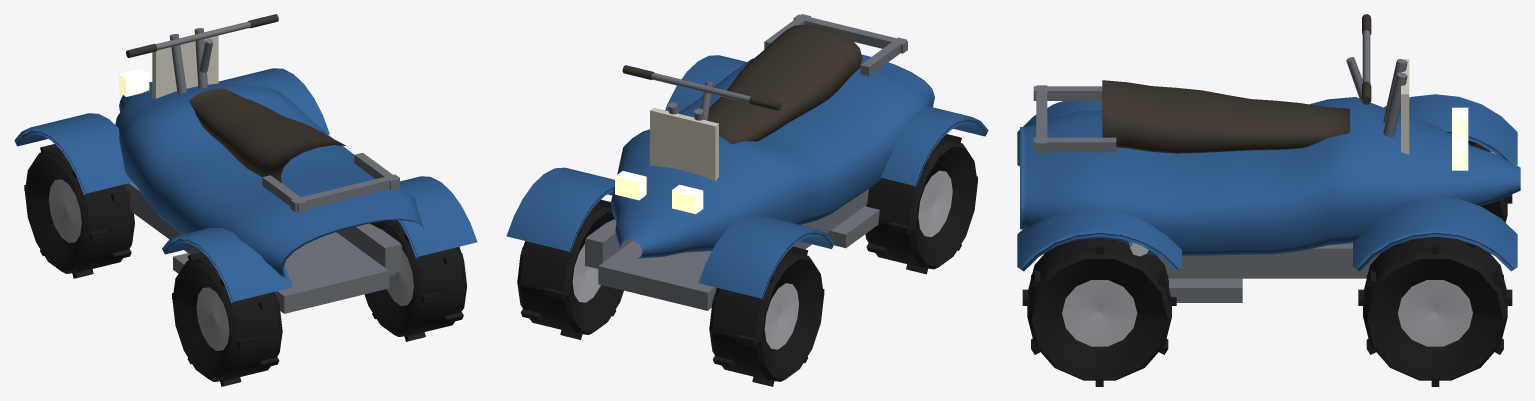
File: vehicle_vehickle.glb
3 renders of one model, left to right at view 1: azimuth 30°, elevation 25°; view 2: azimuth 150°, elevation 25°; view 3: azimuth 270°, elevation 25°, orthographic. The views are drawn at different scales.
Parts seen in each view (by area): view 1: vehicle_vehickle_body, vehicle_vehickle_guards, vehicle_vehickle_chassis, wheel_rl_tyre, wheel_fl_tyre, vehicle_vehickle_saddle, wheel_rr_tyre, vehicle_vehickle_rack, vehicle_vehickle_board, wheel_rl_rim, wheel_fl_rim, steer_bars_tube (+7 smaller); view 2: vehicle_vehickle_body, vehicle_vehickle_guards, vehicle_vehickle_saddle, vehicle_vehickle_chassis, wheel_fl_tyre, wheel_rl_tyre, wheel_fr_tyre, vehicle_vehickle_board, vehicle_vehickle_rack, wheel_rl_rim, wheel_fl_rim, vehicle_vehickle_lamps (+6 smaller); view 3: vehicle_vehickle_body, vehicle_vehickle_guards, vehicle_vehickle_saddle, wheel_fr_tyre, wheel_rr_tyre, vehicle_vehickle_chassis, wheel_fr_rim, wheel_rr_rim, vehicle_vehickle_rack, vehicle_vehickle_lamps, vehicle_vehickle_forks, wheel_fr_tread (+4 smaller).
Boxes of the visible parts, x1,y1,x2,y2 form: vehicle_vehickle_body: [115, 82, 423, 281]; vehicle_vehickle_guards: [14, 68, 477, 303]; vehicle_vehickle_chassis: [125, 182, 401, 313]; wheel_rl_tyre: [172, 257, 282, 381]; wheel_fl_tyre: [25, 148, 134, 273]; vehicle_vehickle_saddle: [189, 88, 348, 183]; wheel_rr_tyre: [364, 220, 466, 336]; vehicle_vehickle_rack: [262, 152, 399, 212]; vehicle_vehickle_board: [152, 35, 218, 98]; wheel_rl_rim: [196, 287, 229, 350]; wheel_fl_rim: [49, 179, 81, 242]; steer_bars_tube: [155, 21, 251, 72]; vehicle_vehickle_body: [611, 54, 934, 258]; vehicle_vehickle_guards: [506, 55, 988, 299]; vehicle_vehickle_saddle: [707, 24, 862, 144]; vehicle_vehickle_chassis: [585, 189, 879, 310]; wheel_fl_tyre: [709, 251, 823, 381]; wheel_rl_tyre: [865, 139, 977, 269]; wheel_fr_tyre: [517, 204, 623, 334]; vehicle_vehickle_board: [650, 107, 718, 181]; vehicle_vehickle_rack: [764, 14, 907, 76]; wheel_rl_rim: [918, 170, 952, 236]; wheel_fl_rim: [764, 283, 798, 349]; vehicle_vehickle_lamps: [615, 171, 703, 214]; vehicle_vehickle_body: [1020, 97, 1520, 255]; vehicle_vehickle_guards: [1017, 94, 1517, 271]; vehicle_vehickle_saddle: [1102, 80, 1349, 153]; wheel_fr_tyre: [1363, 236, 1507, 380]; wheel_rr_tyre: [1027, 239, 1171, 380]; vehicle_vehickle_chassis: [1156, 243, 1379, 302]; wheel_fr_rim: [1397, 280, 1472, 346]; wheel_rr_rim: [1062, 280, 1137, 346]; vehicle_vehickle_rack: [1033, 85, 1116, 153]; vehicle_vehickle_lamps: [1452, 107, 1468, 170]; vehicle_vehickle_forks: [1383, 59, 1407, 137]; wheel_fr_tread: [1358, 238, 1512, 386].
Bounding box in the file's own units: 1.16 × 1.08 × 1.83.
